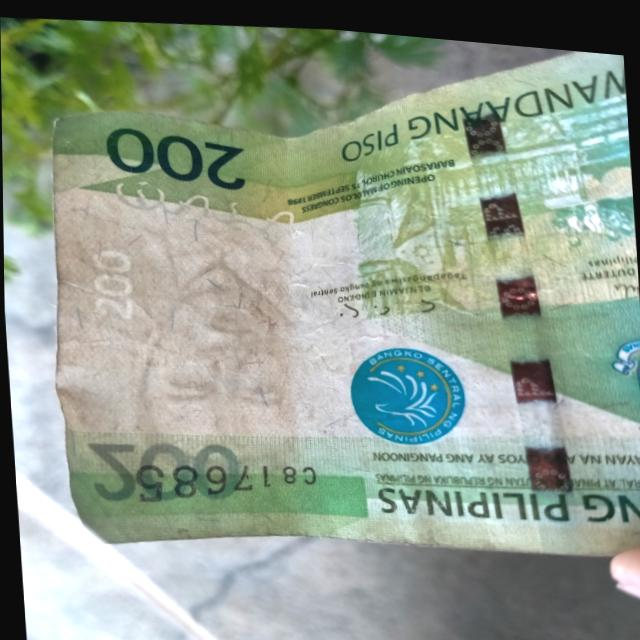security_thread: (454, 72, 582, 546)
see_through_mark: (107, 160, 317, 246)
serial_number: (127, 447, 319, 514)
value_watermark: (79, 241, 146, 326)
watermark: (110, 196, 338, 483)
